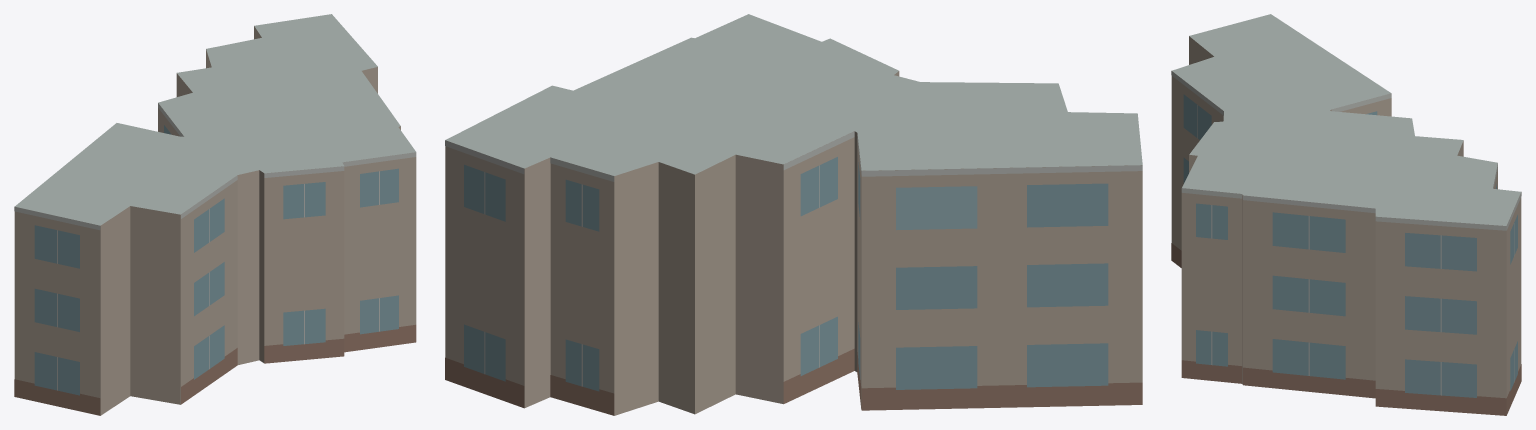
The model's file is survey-upis-32616019.glb.
The picture shows the model from 3 angles, left to right: view 1: azimuth 30°, elevation 25°; view 2: azimuth 150°, elevation 25°; view 3: azimuth 270°, elevation 25°; orthographic projection. The views are drawn at different scales.
Visible parts, largest first — view 1: survey-upis-32616019.tmp; view 2: survey-upis-32616019.tmp; view 3: survey-upis-32616019.tmp.
Boxes of the visible parts, x1=… form: survey-upis-32616019.tmp: x1=14, y1=14, x2=416, y2=415; survey-upis-32616019.tmp: x1=445, y1=14, x2=1142, y2=415; survey-upis-32616019.tmp: x1=1171, y1=14, x2=1521, y2=415.
Size of the model in its own units: 23.49 by 9.8 by 16.37.
